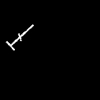double_crochet: (7, 25, 32, 49)
